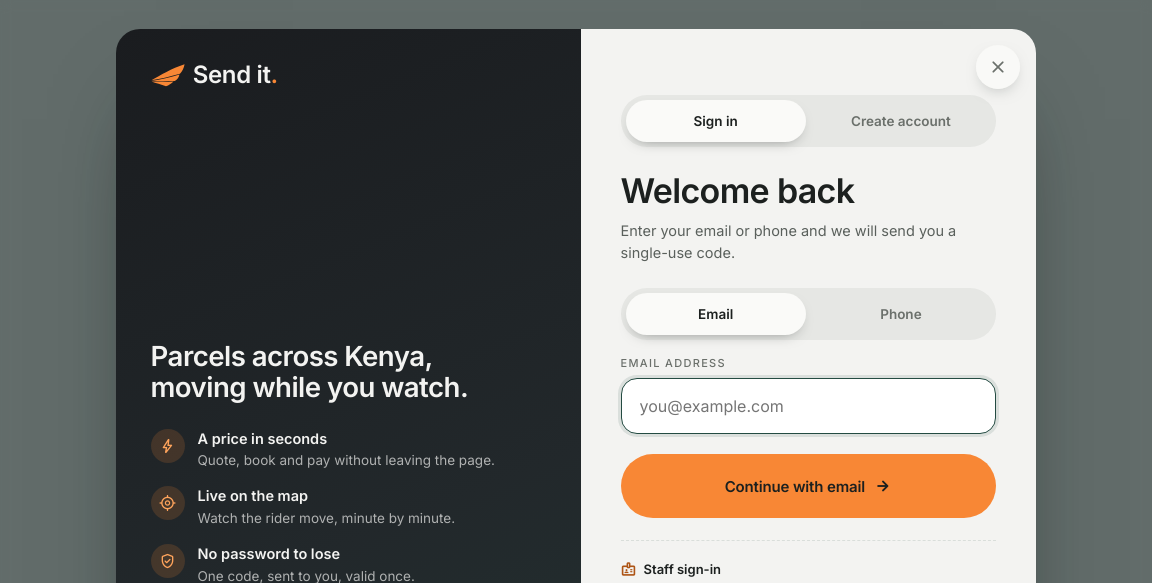
creating an account › asks for a name and consent that sign-in does not
Expected: the field labelled "Full name" is not shown
Click the tab "Create account".
click(901, 121)  # box [811,100,991,142]
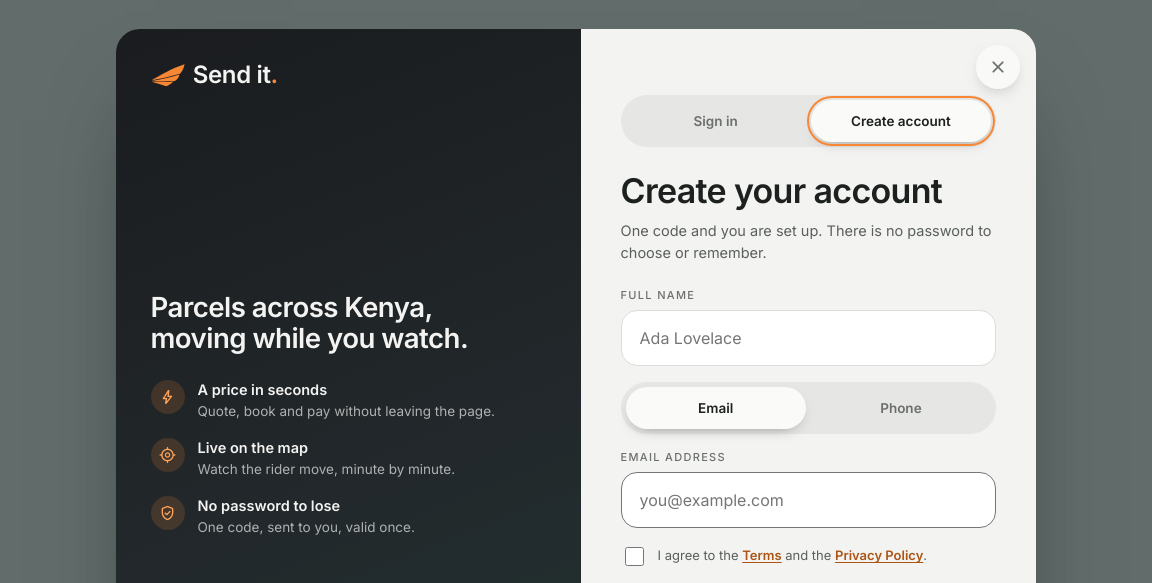
Result: the field labelled "Full name" is shown at [620,310,996,366]
Result: the checkbox is shown at [624,548,644,566]
